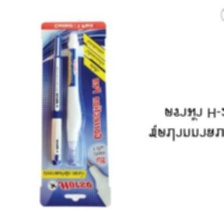book: (38, 19, 112, 209)
correction_fluid: (63, 30, 84, 168)
